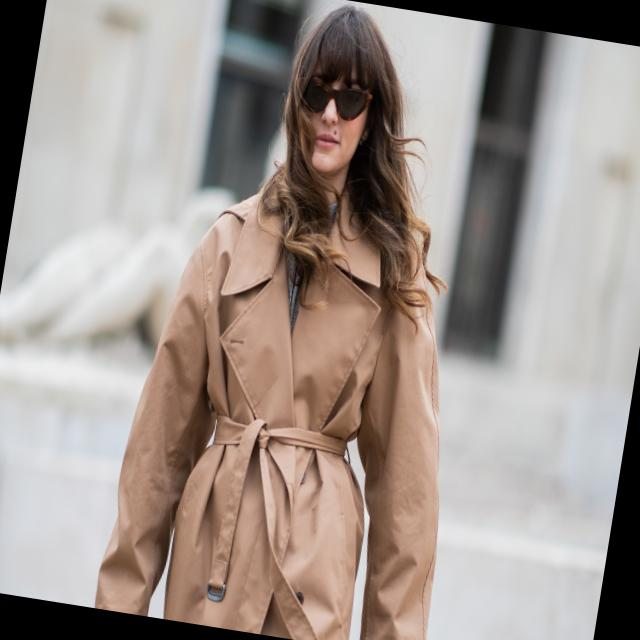Jacket: (98, 172, 478, 640)
